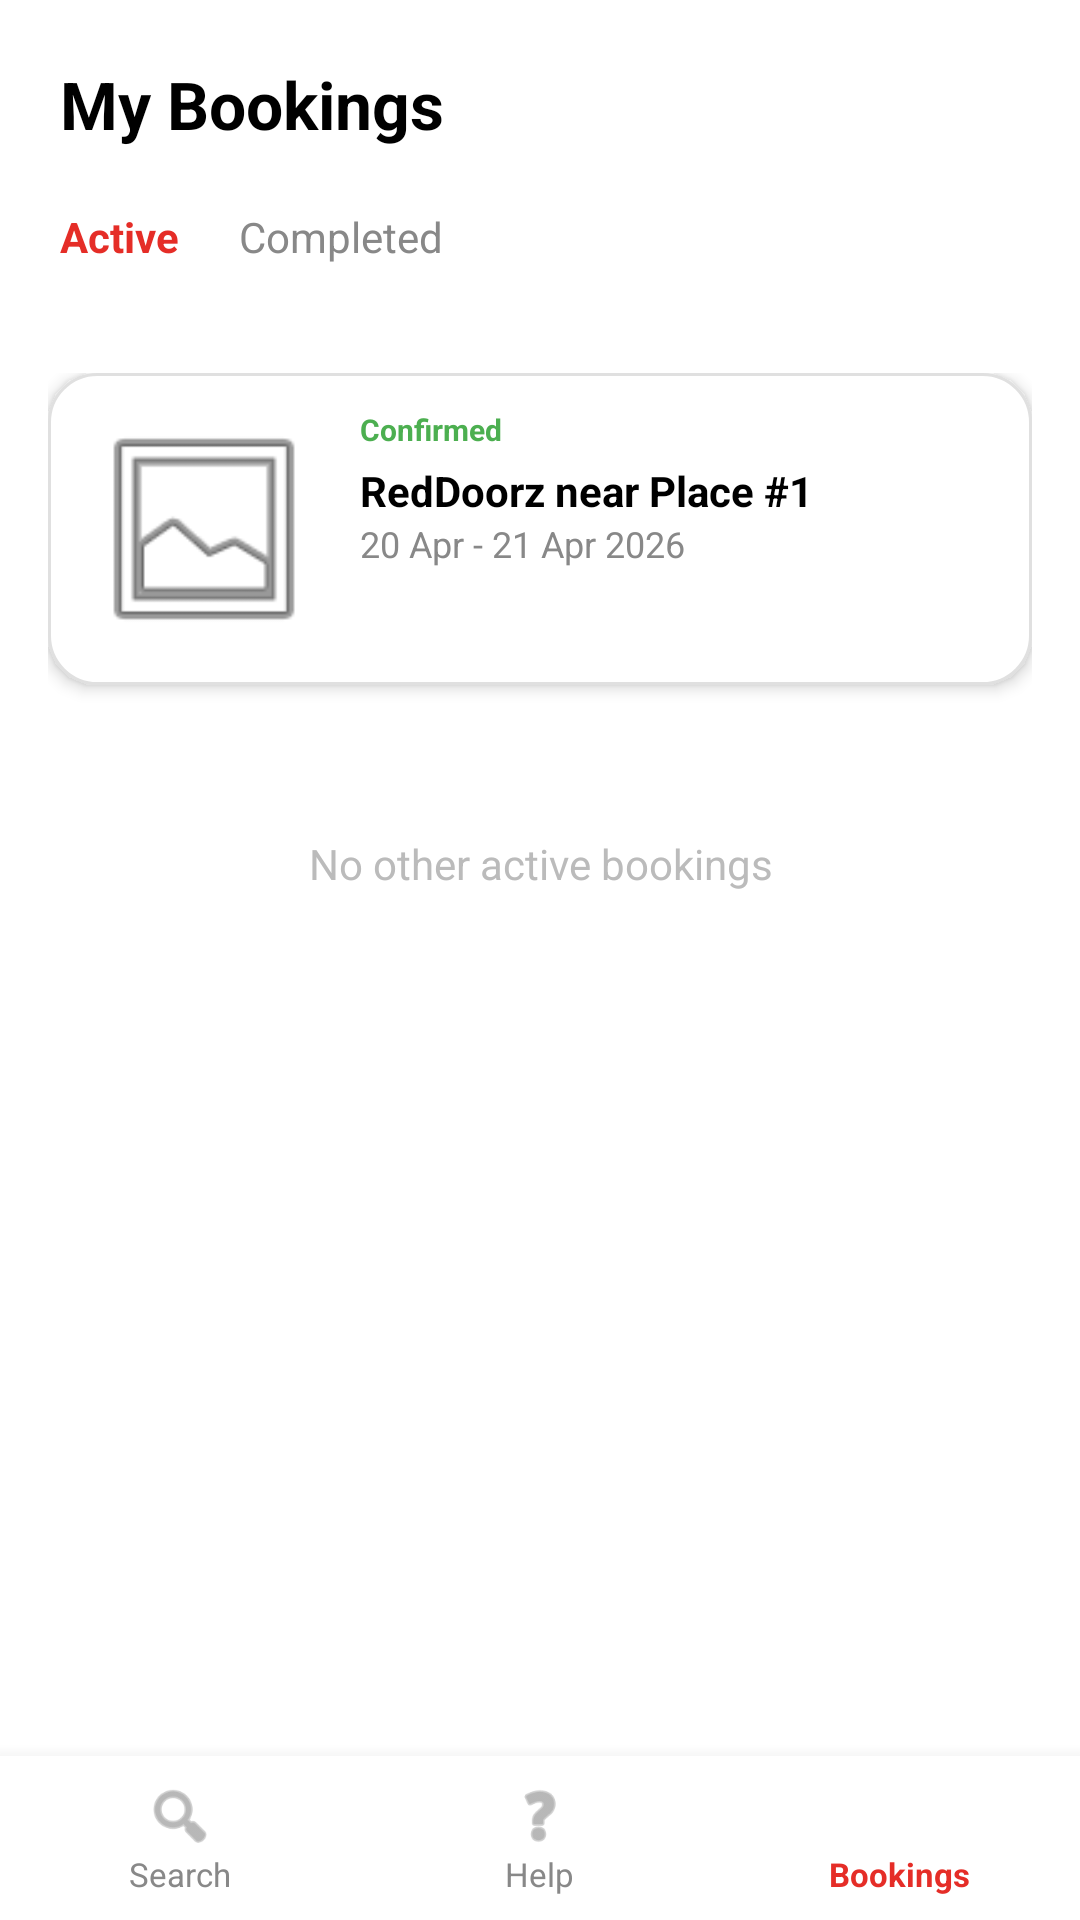

Point at icon controls on the screen. Image size 1080*1920, points as [x,y].
gallery: [204,529]
